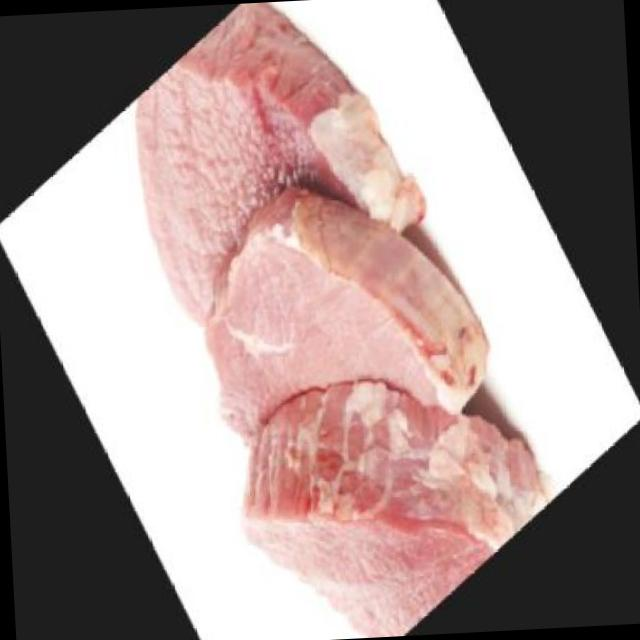beef: (164, 166, 514, 465), (215, 358, 570, 640), (138, 0, 438, 333)
